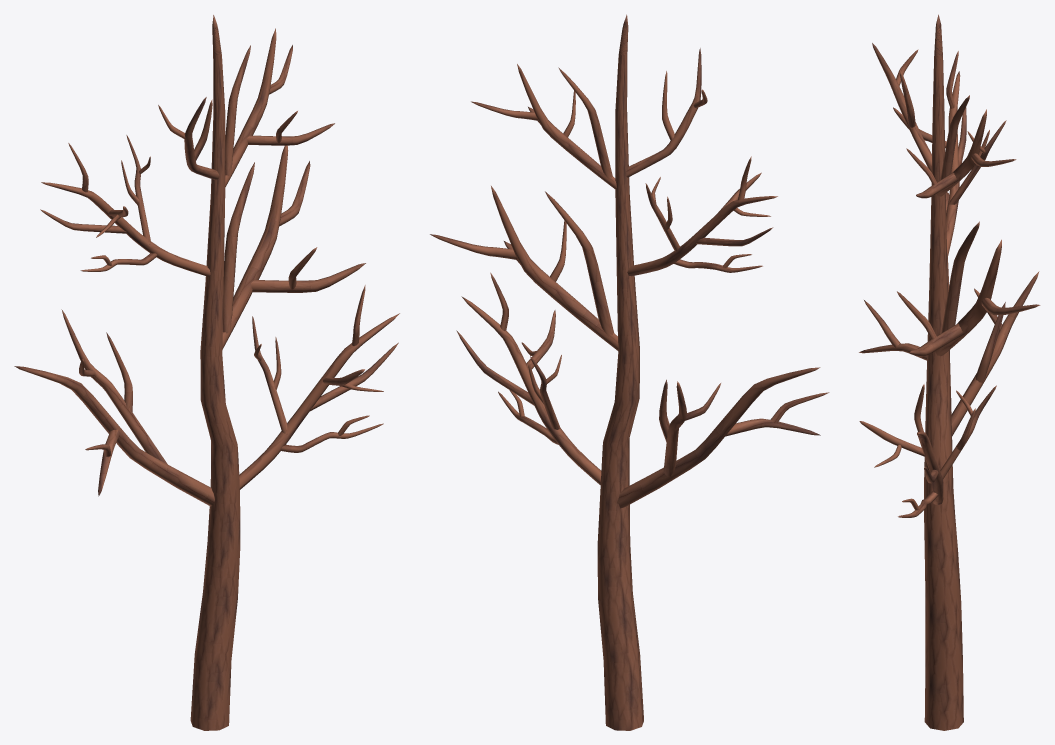
File: DeadTree_2.gltf
The picture shows the model from 3 angles, left to right: view 1: azimuth 30°, elevation 25°; view 2: azimuth 150°, elevation 25°; view 3: azimuth 270°, elevation 25°; orthographic projection.
Visible parts, largest first — view 1: DeadTree_2; view 2: DeadTree_2; view 3: DeadTree_2.
Boxes of the visible parts, <box> form: DeadTree_2: <box>14,15,399,730</box>; DeadTree_2: <box>430,14,829,730</box>; DeadTree_2: <box>859,14,1040,730</box>.
Bounding box in the file's own units: 3.42 × 6.2 × 1.45.
Materials: 1 (1 with a texture image).
